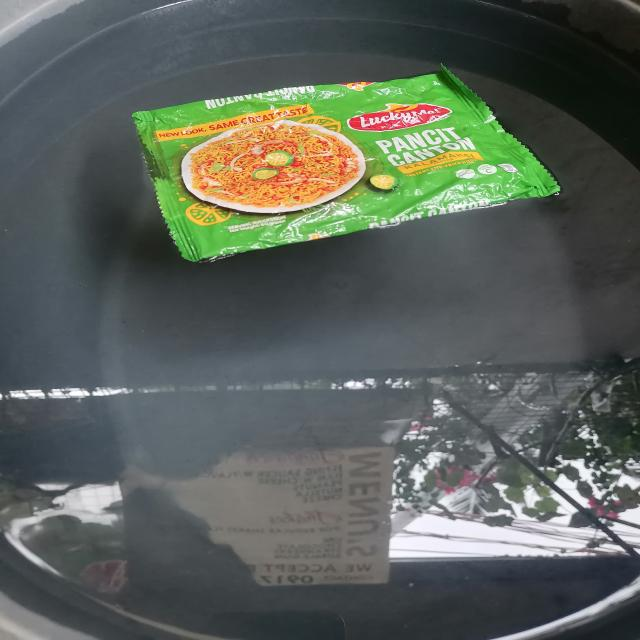Plastic Wrapper: (115, 48, 576, 272)
